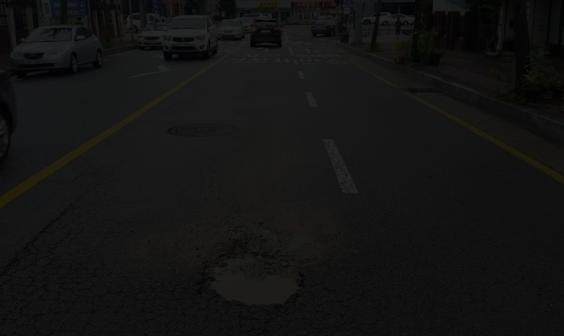pothole: (190, 229, 316, 316)
